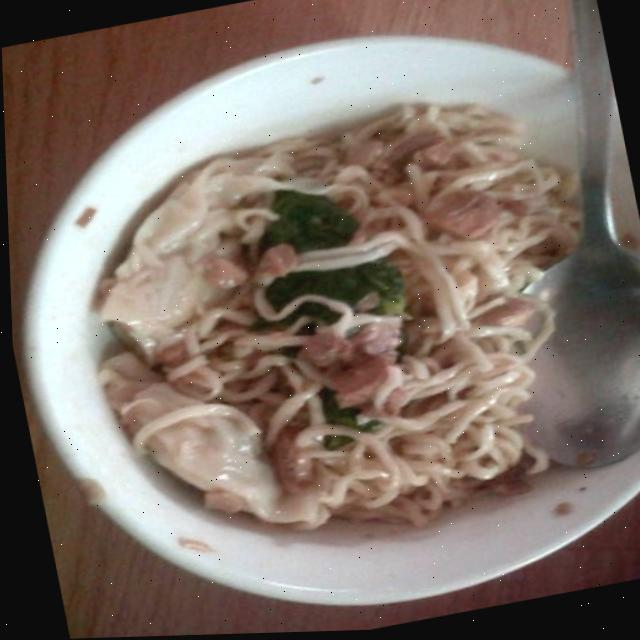面条主食: (13, 33, 640, 607)
